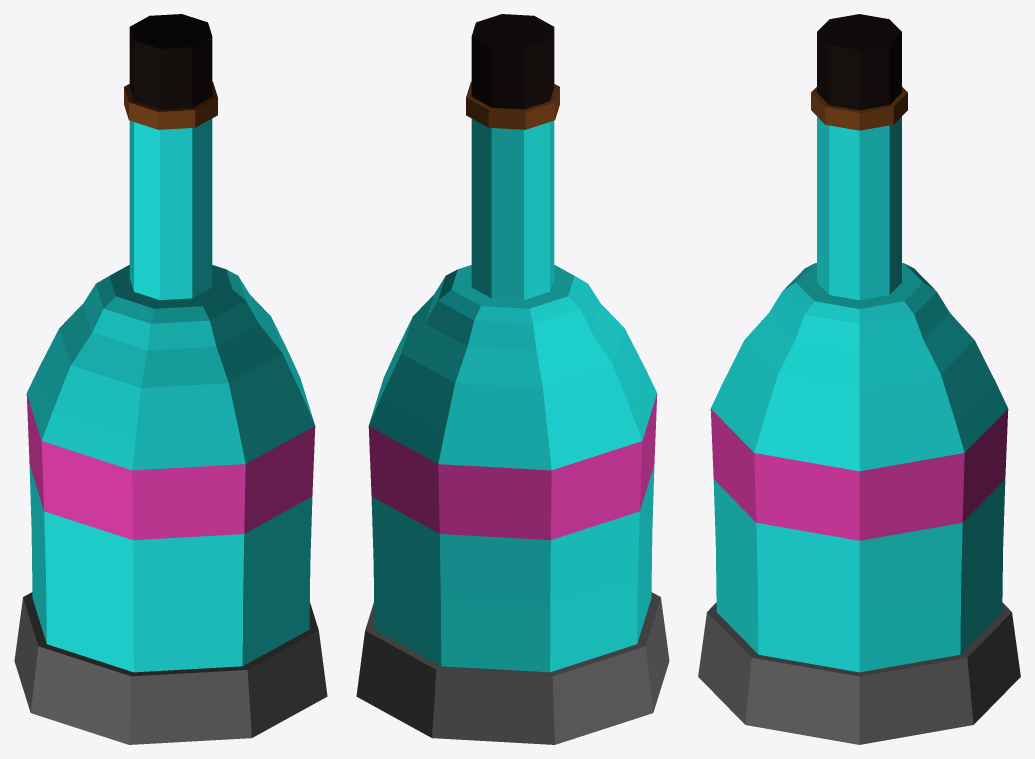
The model's file is Bottle 9.fbx.
3 views of the same model, side by side, from view 1: azimuth 30°, elevation 25°; view 2: azimuth 150°, elevation 25°; view 3: azimuth 270°, elevation 25° (orthographic).
Parts seen in each view (by area): view 1: Node 0; view 2: Node 0; view 3: Node 0.
Boxes of the visible parts, x1,y1,x2,y2 form: Node 0: [14, 14, 327, 744]; Node 0: [356, 14, 669, 744]; Node 0: [698, 14, 1020, 744].
Bounding box in the file's own units: 0.1947 × 0.4292 × 0.1947.
